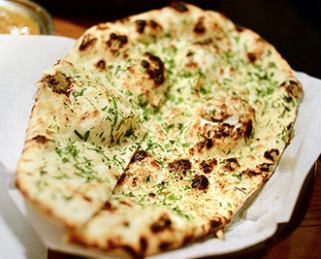sushi: (0, 0, 56, 35)
